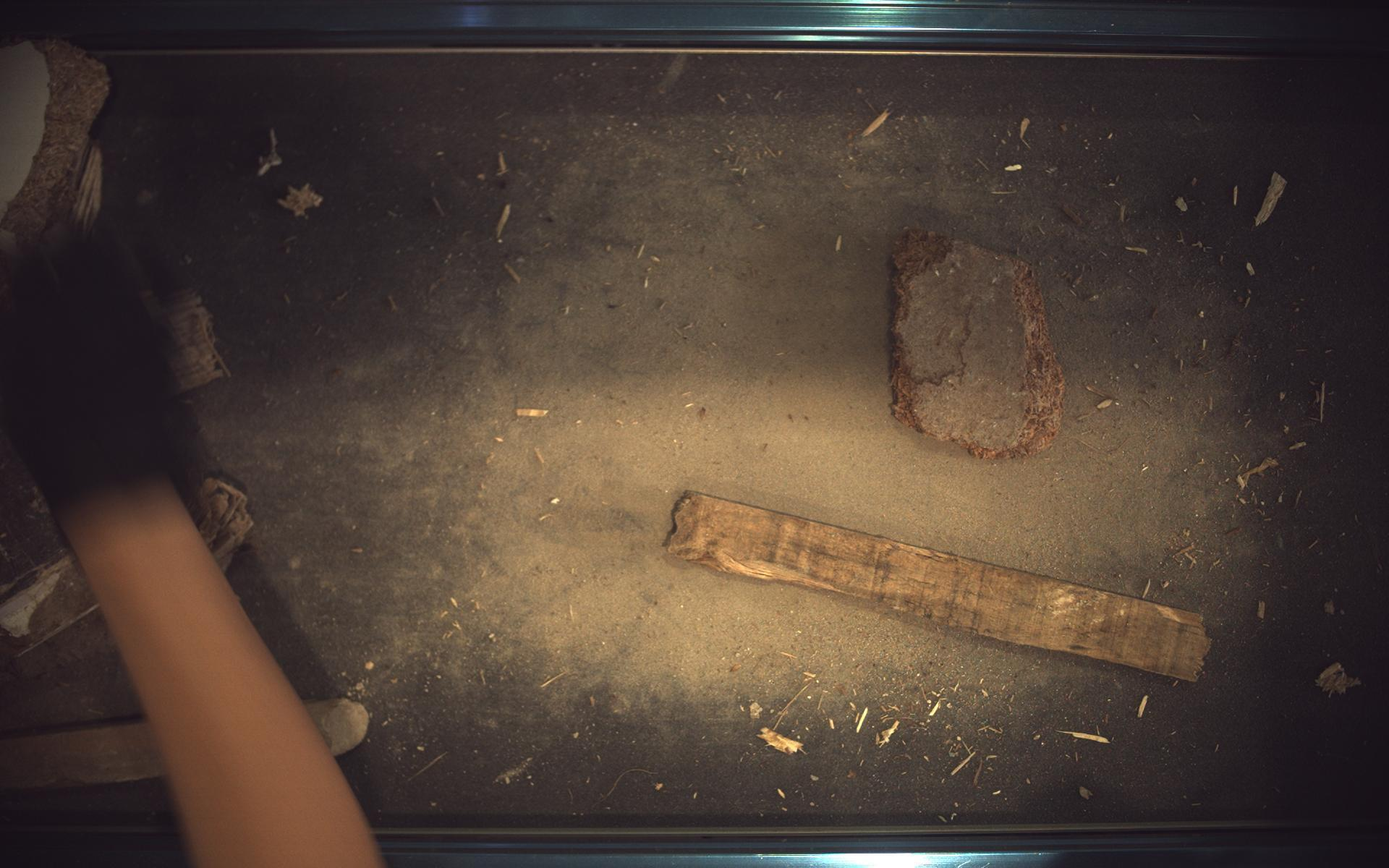wood: (667, 492, 1213, 682), (893, 228, 1066, 459), (1, 38, 108, 252), (1, 723, 162, 791), (1, 424, 67, 587), (140, 288, 229, 394), (1, 555, 95, 655), (195, 477, 252, 571), (306, 699, 369, 757), (70, 142, 101, 234)
